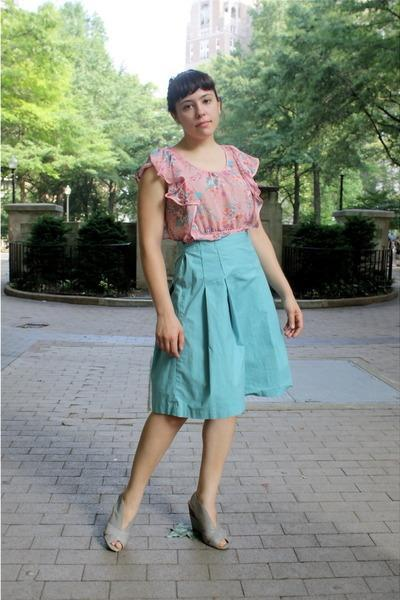shirt: (150, 145, 265, 264)
shoe: (108, 516, 236, 550)
skirt: (149, 231, 292, 419)
